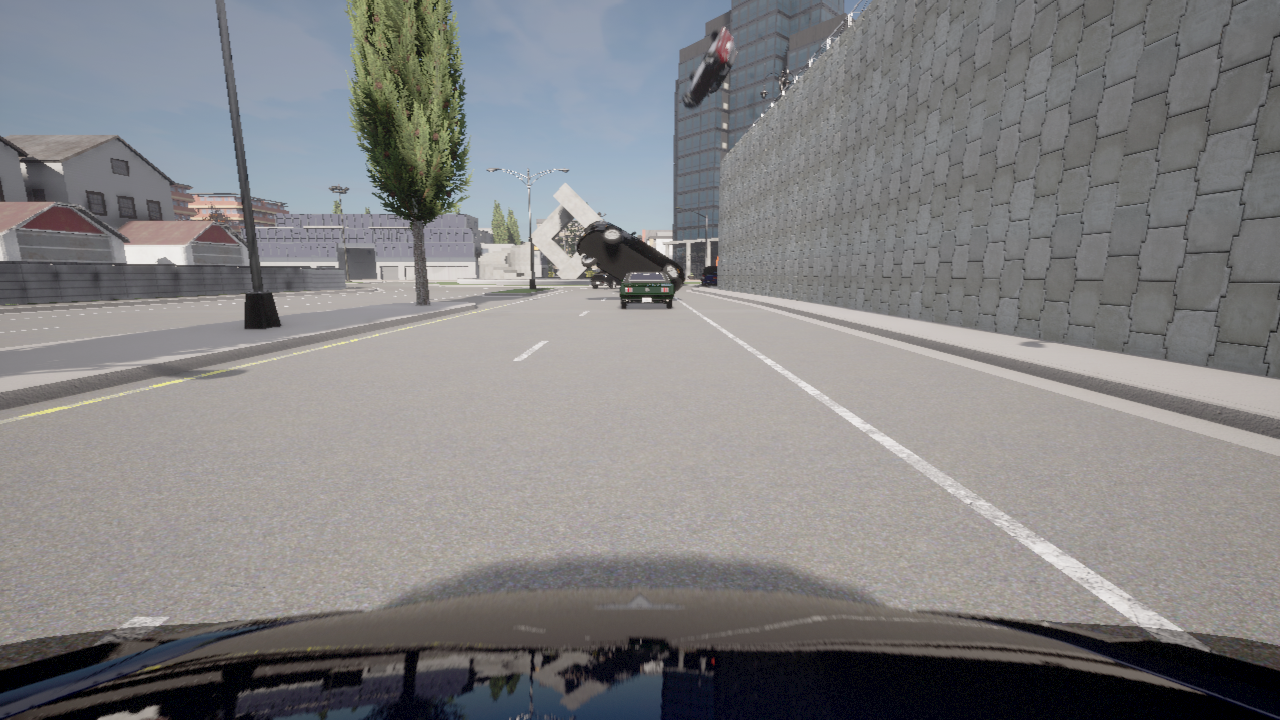cyclist: (0, 588, 1279, 719), (577, 220, 684, 291), (682, 28, 737, 108), (619, 271, 674, 308), (591, 271, 621, 288), (701, 266, 717, 285), (703, 271, 717, 286), (716, 256, 717, 265)
